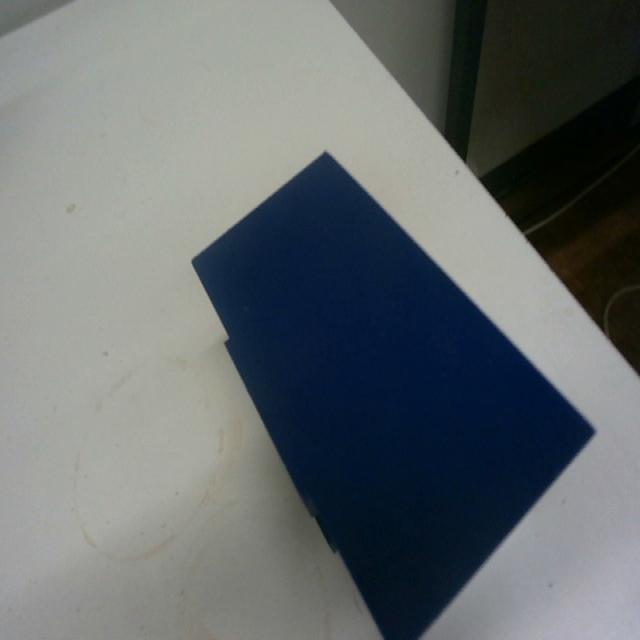Blue Cuboid: (189, 146, 597, 638)
